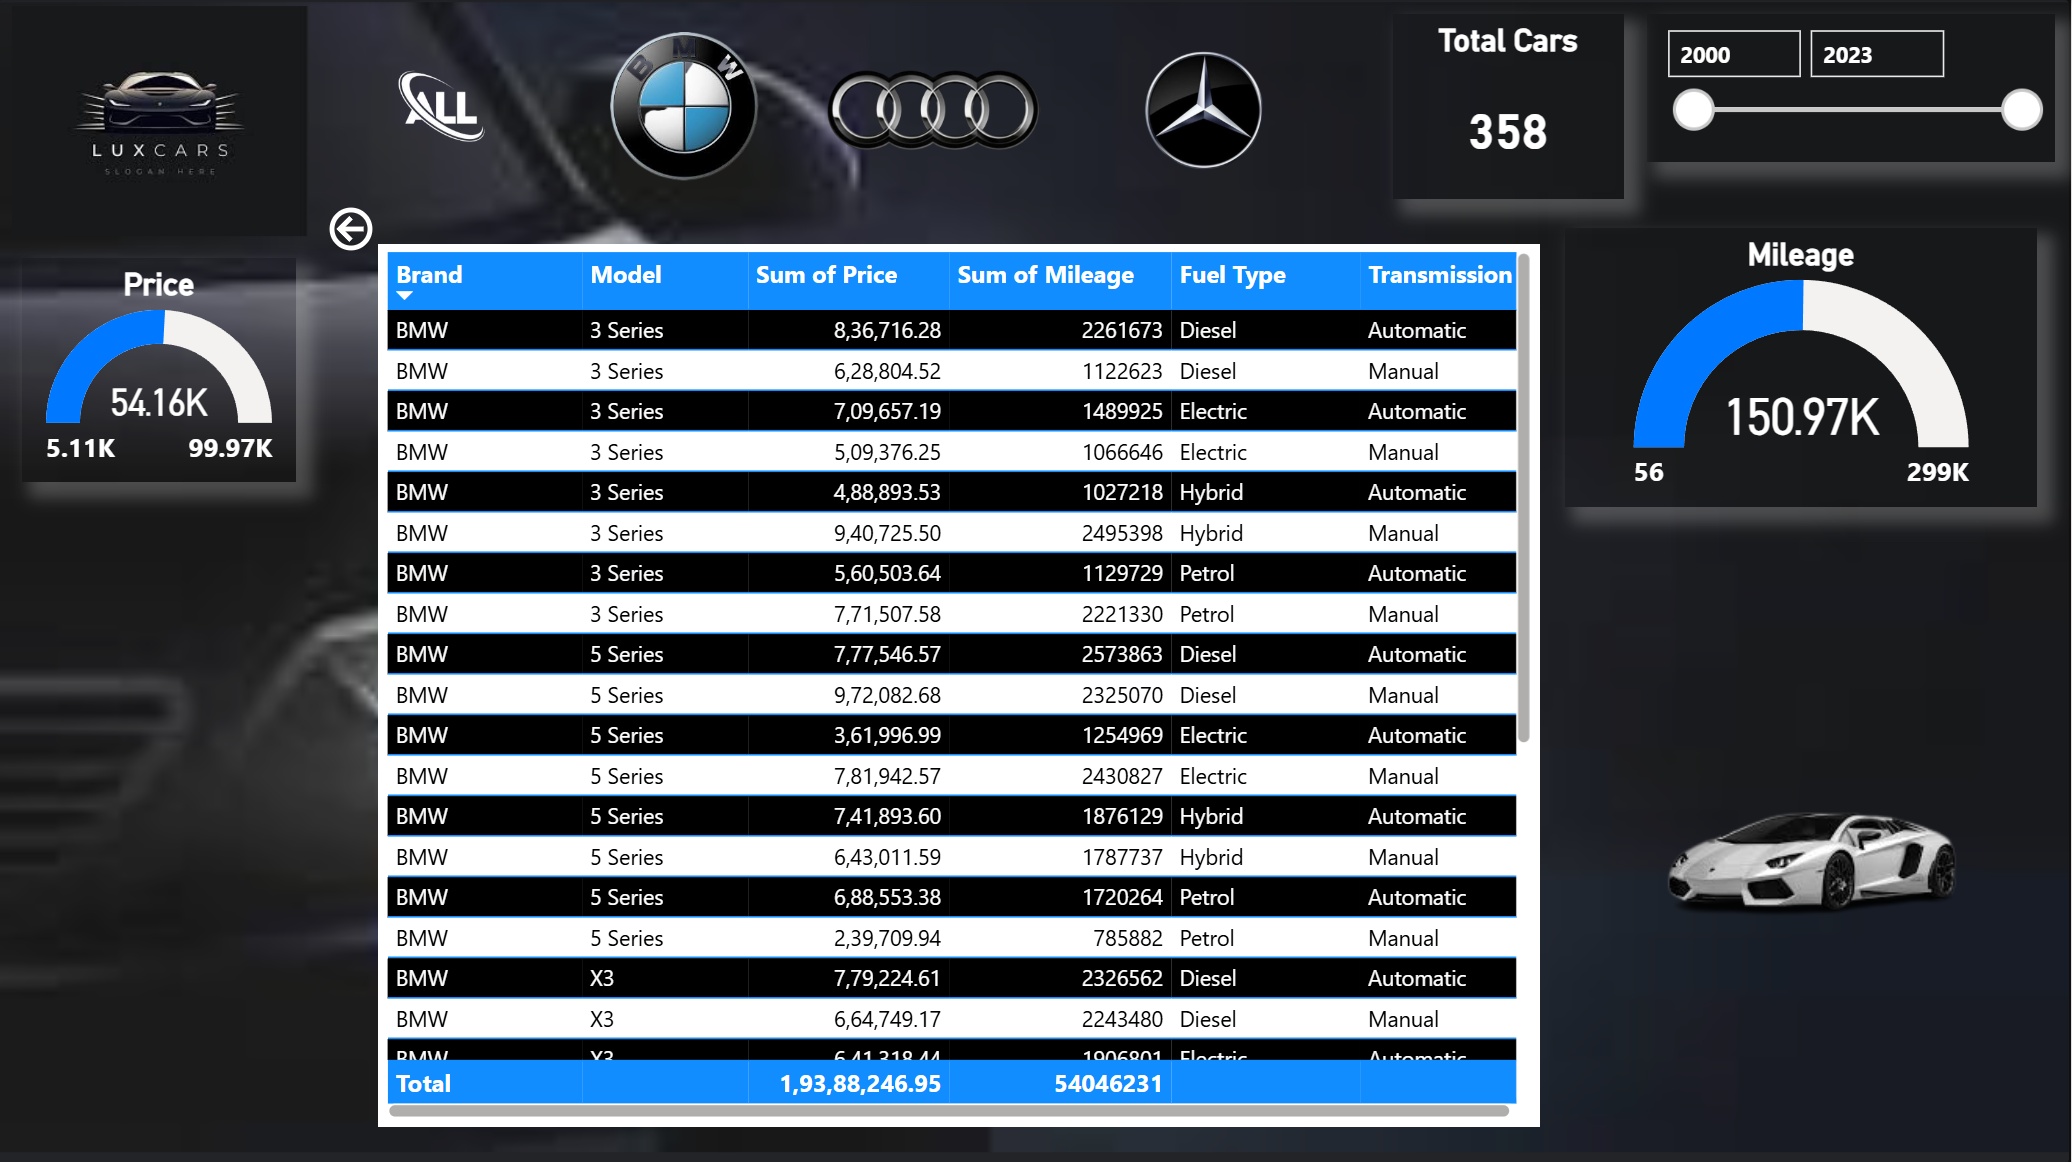

This screenshot's page, from the dashboard's own definition file:
{"tool":"powerbi","page":{"name":"Brand Details","canvas":[1280,720],"ordinal":3},"visuals":[{"type":"card","title":"Total Cars","fields":{"Values":["CountNonNull(car_price_prediction_.Car ID)"]},"box":[862,9.9,142.3,114.1],"z":0},{"type":"gauge","title":"Mileage","fields":{"Y":["Avg(car_price_prediction_.Mileage)"],"MinValue":["Min(car_price_prediction_.Mileage)"],"MaxValue":["Max(car_price_prediction_.Mileage)"]},"box":[967.6,142.3,291.5,171.8],"z":2000},{"type":"image","title":"All Logo","box":[212.7,15.5,125.4,101.4],"z":8000},{"type":"image","title":"Audi Logo","box":[501.4,15.5,153.5,101.4],"z":9000},{"type":"image","title":"BMW Logo","box":[347.9,15.5,153.5,101.4],"z":10000},{"type":"image","title":"Mercedes Logo","box":[669,15.5,153.5,104.2],"z":11000},{"type":"image","title":"Lux Cars Logo","box":[1.4,0,200,152.1],"z":12000},{"type":"slicer","fields":{"Values":["car_price_prediction_.Year"]},"box":[1018.3,9.9,252.1,91.5],"z":13000},{"type":"gauge","title":"Price","fields":{"Y":["Avg(car_price_prediction_.Price)"],"MinValue":["Min(car_price_prediction_.Price)1"],"MaxValue":["Max(car_price_prediction_.Price)2"]},"box":[16,160.5,169.1,138.2],"z":18000},{"type":"image","box":[970.4,331,300,376.1],"z":19000},{"type":"tableEx","fields":{"Values":["car_price_prediction_.Brand","car_price_prediction_.Model","Sum(car_price_prediction_.Price)","Sum(car_price_prediction_.Mileage)","car_price_prediction_.Fuel Type","car_price_prediction_.Transmission"]},"box":[235.8,151.8,715.9,544.3],"z":20000},{"type":"actionButton","box":[201.2,124.7,90.1,35.8],"z":21000}]}

Visuals, with their boxes in screenshot pixels (x1, y1, x2, y2), scaled from the page's 1280x720 canvas onto the 2072x1162 screenshot:
"Total Cars" card: 1395,16,1626,200
"Mileage" gauge: 1566,230,2038,507
"All Logo" image: 344,25,547,189
"Audi Logo" image: 812,25,1060,189
"BMW Logo" image: 563,25,812,189
"Mercedes Logo" image: 1083,25,1331,193
"Lux Cars Logo" image: 2,0,326,245
slicer - car_price_prediction_.Year: 1648,16,2056,164
"Price" gauge: 26,259,300,482
image: 1571,534,2056,1141
tableEx - car_price_prediction_.Brand x car_price_prediction_.Model: 382,245,1541,1123
actionButton: 326,201,472,259
